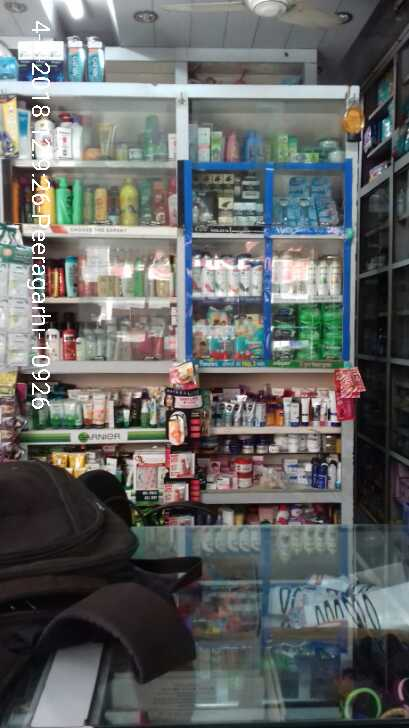venus: (314, 198, 339, 226), (292, 198, 314, 226), (272, 197, 292, 226), (312, 177, 333, 197), (289, 176, 309, 197)
